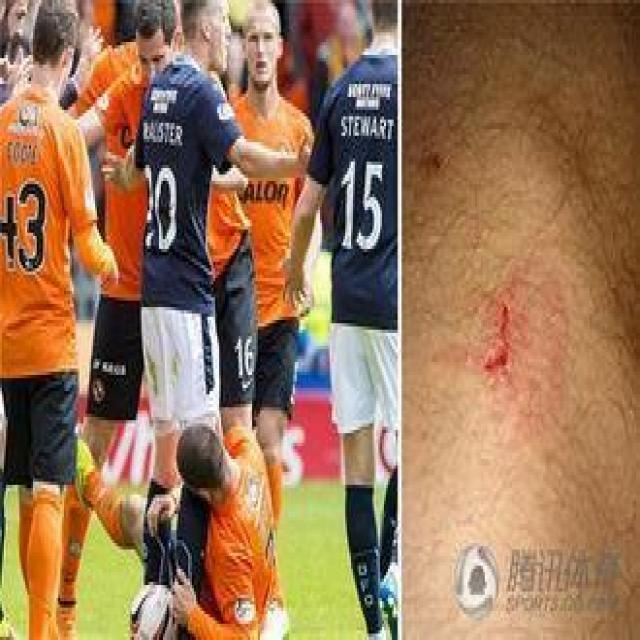fall: (62, 407, 293, 634)
